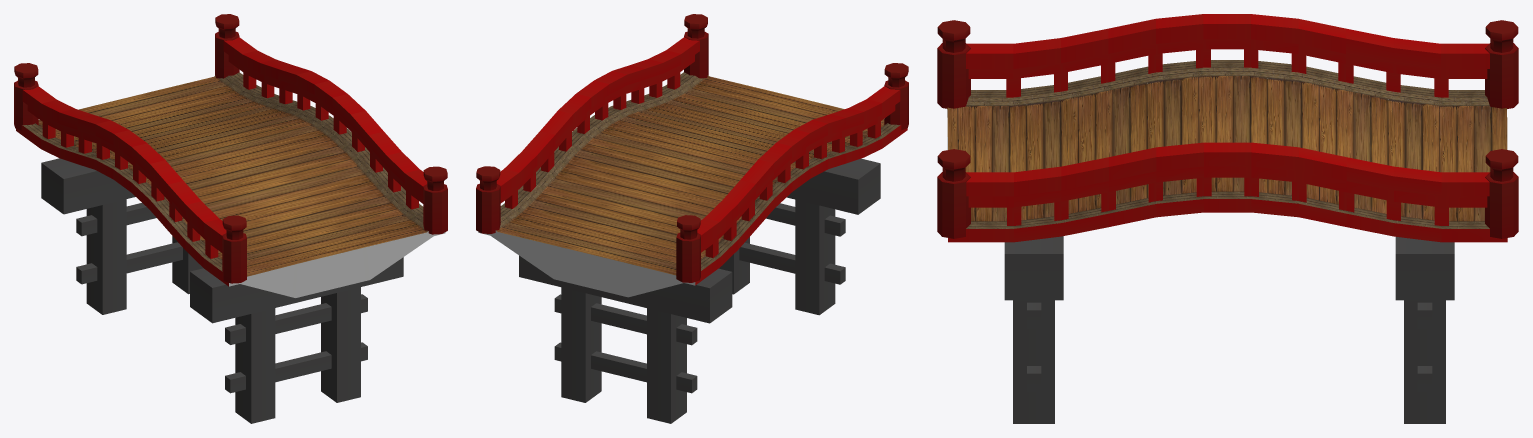
File: Bridge Prop.fbx
3 renders of one model, left to right at view 1: azimuth 30°, elevation 25°; view 2: azimuth 150°, elevation 25°; view 3: azimuth 270°, elevation 25°, orthographic. The views are drawn at different scales.
Parts seen in each view (by area): view 1: Bridge; view 2: Bridge; view 3: Bridge.
Boxes of the visible parts, x1,y1,x2,y2 form: Bridge: (14, 14, 447, 423); Bridge: (476, 14, 908, 423); Bridge: (937, 14, 1518, 423).
Bounding box in the file's own units: 7.75 × 7.83 × 13.31.
1 material, 1 textured.
